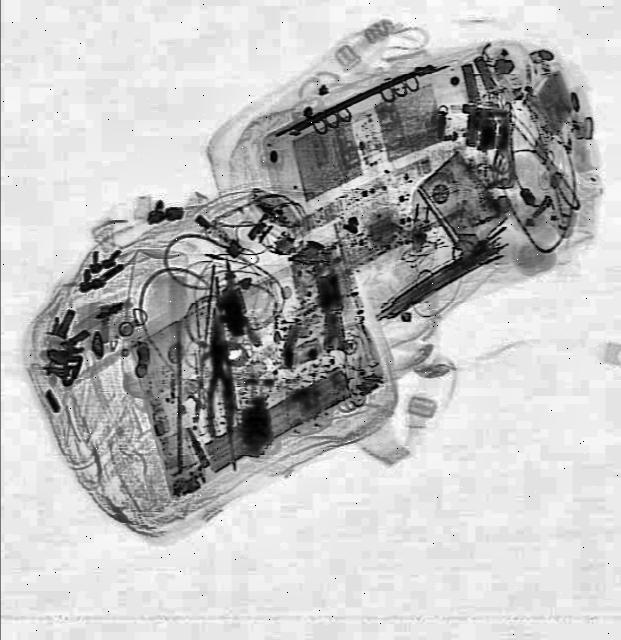Pliers: (202, 311, 238, 439)
